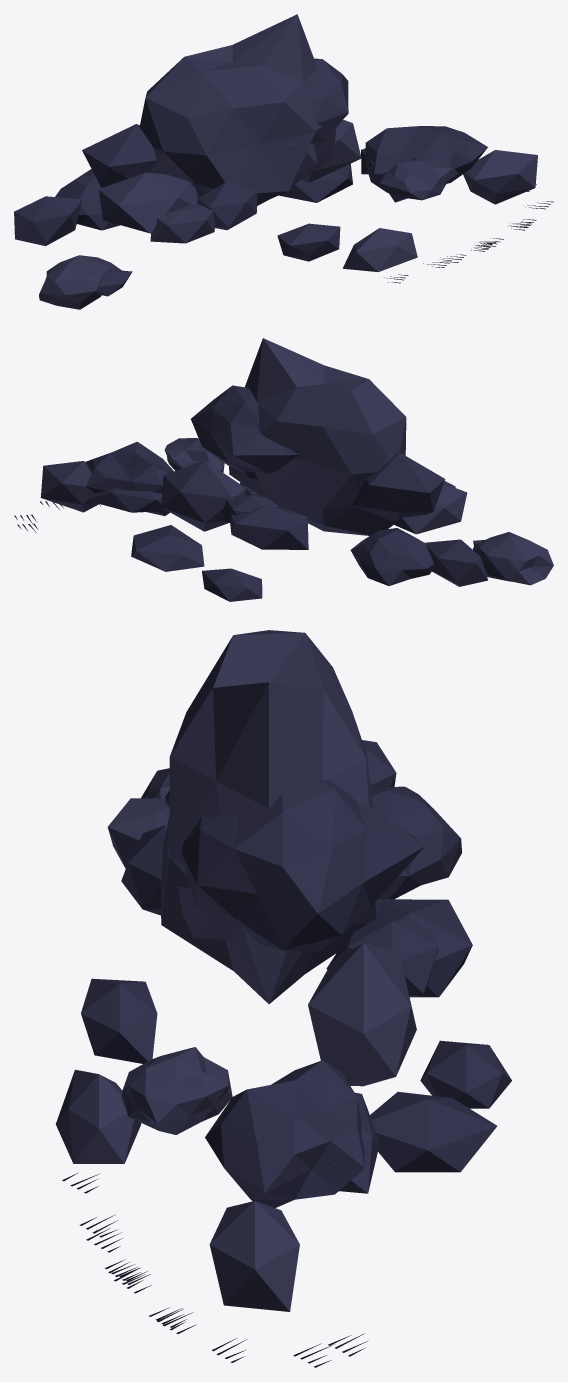
File: rubble_large.glb
The picture shows the model from 3 angles, top to bottom: view 1: azimuth 30°, elevation 25°; view 2: azimuth 150°, elevation 25°; view 3: azimuth 270°, elevation 25°; orthographic projection. The views are drawn at different scales.
Visible parts, largest first — view 1: rubble_large.001; view 2: rubble_large.001; view 3: rubble_large.001.
Boxes of the visible parts, box(x1,y1,x2,y2) form: rubble_large.001: box(14, 14, 553, 309); rubble_large.001: box(14, 338, 553, 601); rubble_large.001: box(55, 630, 511, 1367).
Size of the model in its own units: 8.13 by 3.5 by 3.19.
